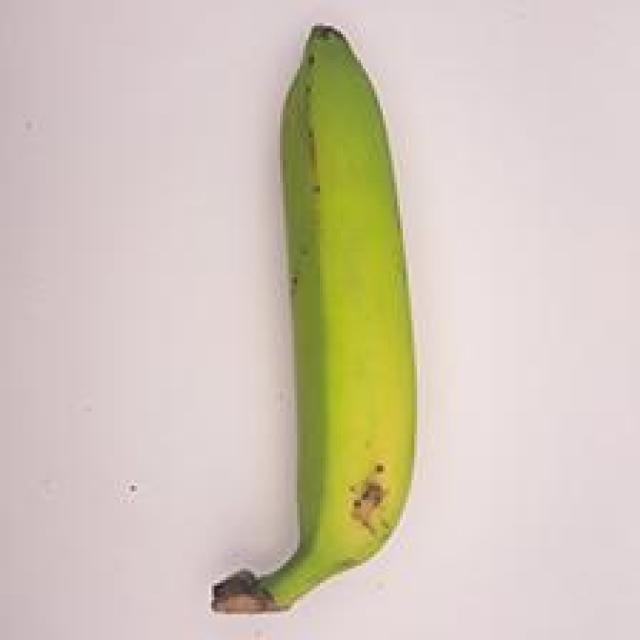Unripe: (178, 13, 466, 638)
